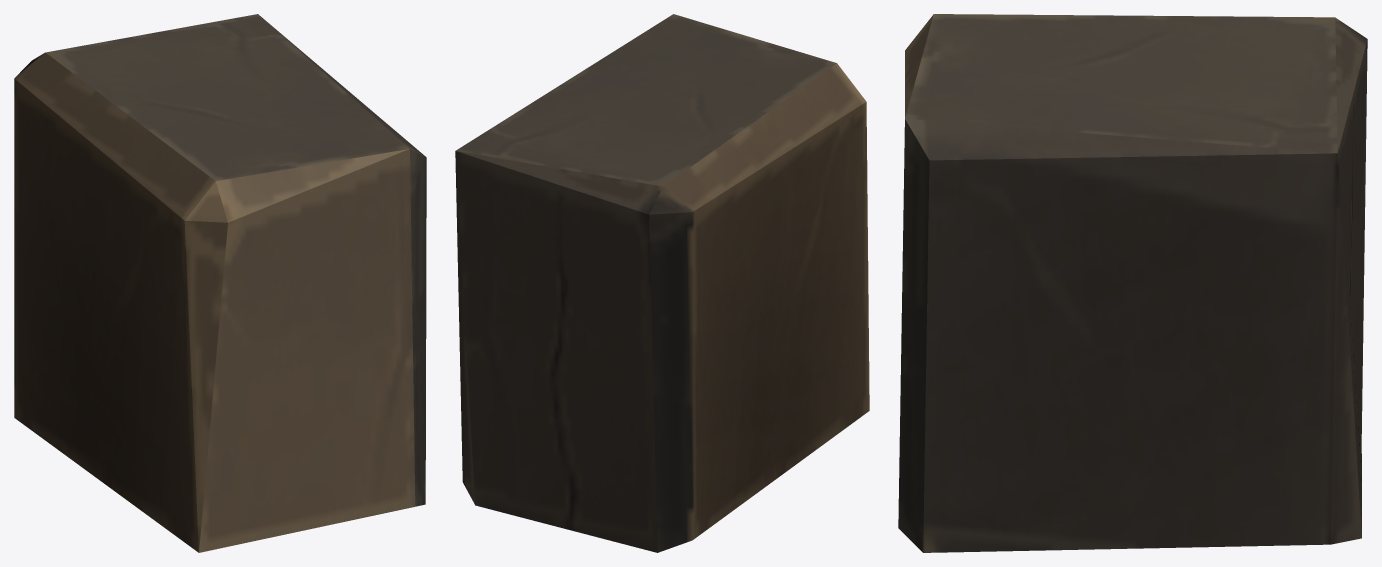
File: SM_EgyptianBlock2x2x1.fbx
3 views of the same model, side by side, from view 1: azimuth 30°, elevation 25°; view 2: azimuth 150°, elevation 25°; view 3: azimuth 270°, elevation 25° (orthographic). The views are drawn at different scales.
Parts seen in each view (by area): view 1: Object003; view 2: Object003; view 3: Object003.
Boxes of the visible parts, left/top/right/bottom form: Object003: left=14, top=14, right=426, bottom=552; Object003: left=455, top=14, right=869, bottom=552; Object003: left=898, top=14, right=1367, bottom=552.
Bounding box in the file's own units: 17.27 × 24.51 × 24.58.
